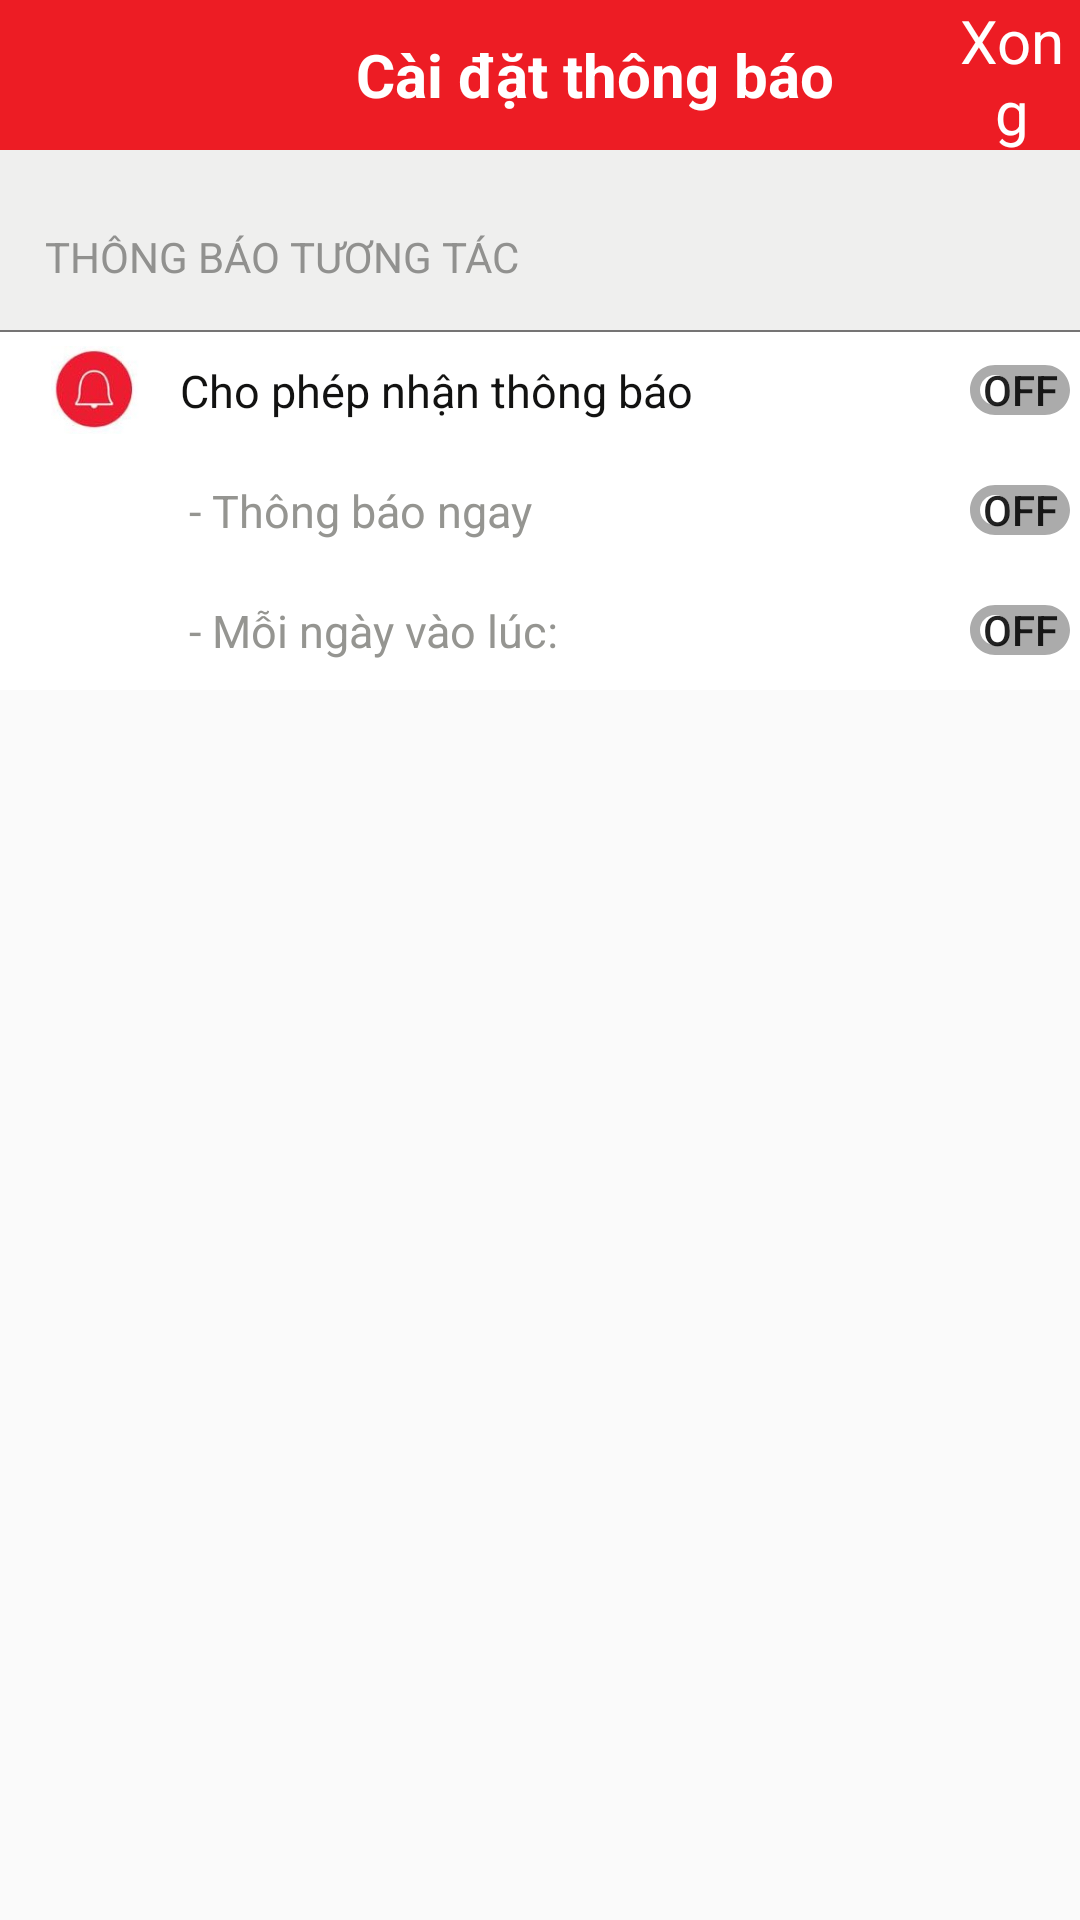

Icons on this 1080w x 1920h Android screen, each with the point to tap as [x,y]:
chuong: [94,389]
